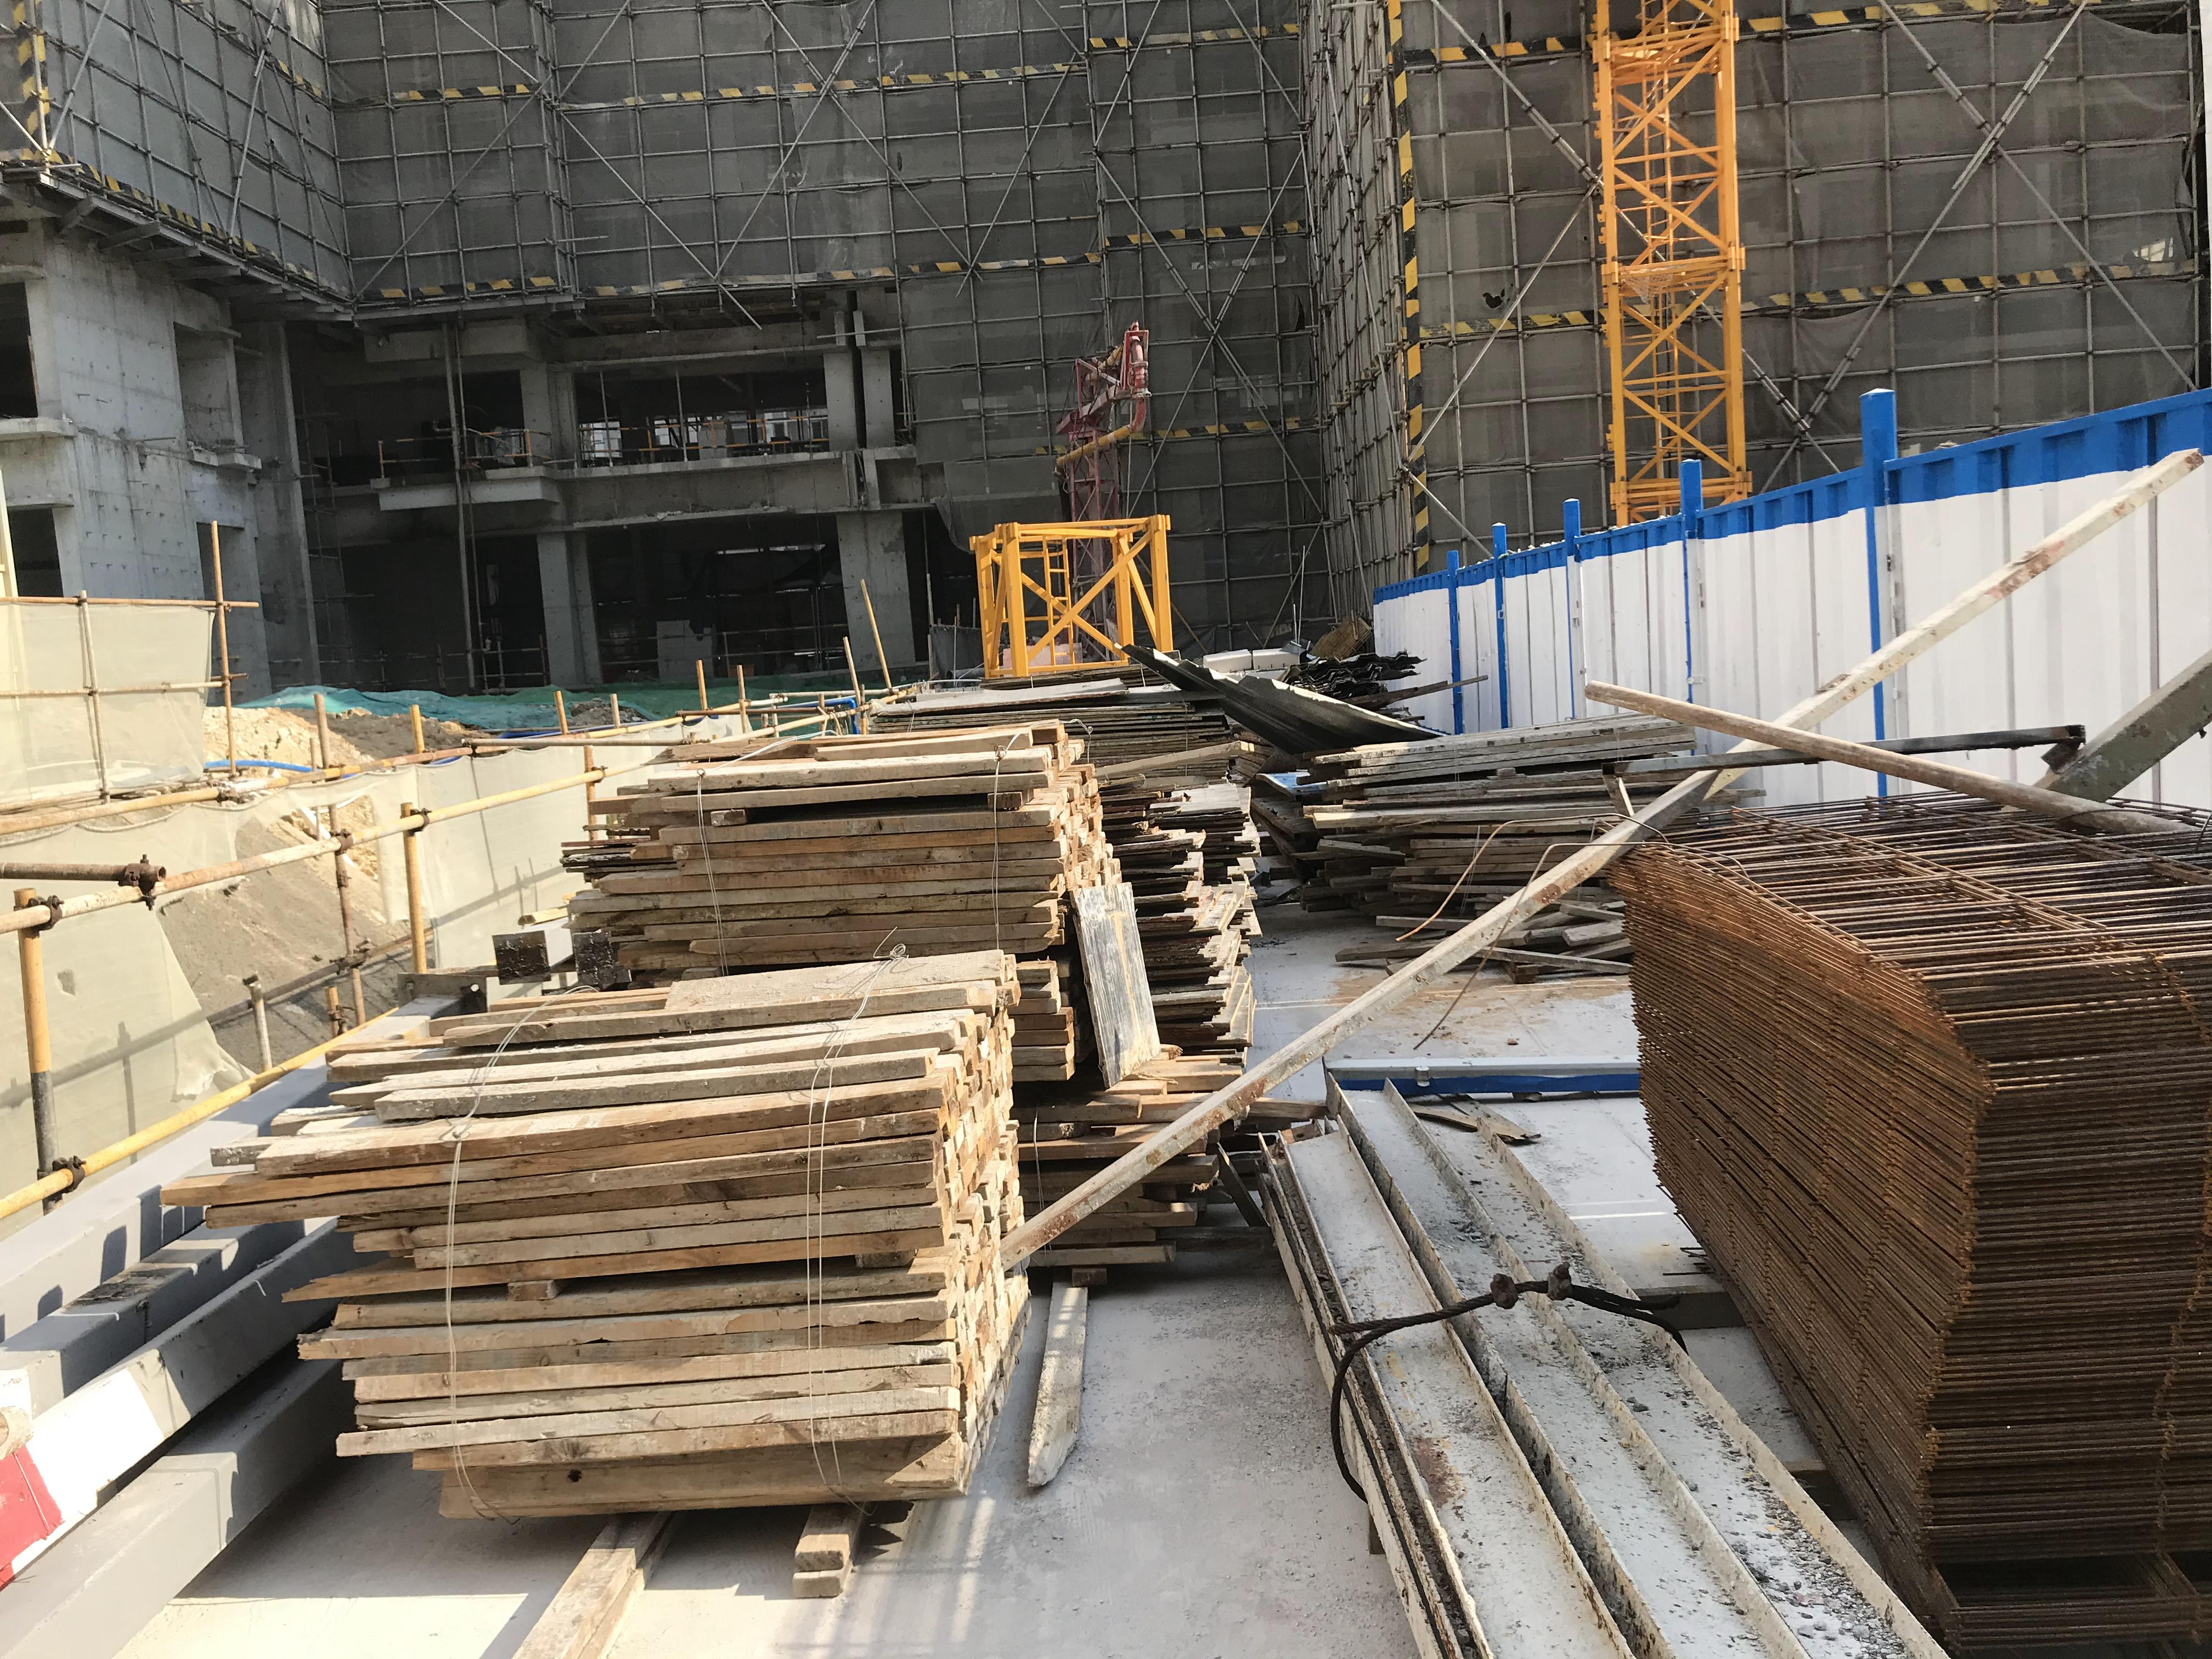wood: (153, 932, 1042, 1528), (531, 704, 1111, 1019), (1303, 720, 1749, 971), (982, 1047, 1251, 1265), (1089, 730, 1259, 1070)
